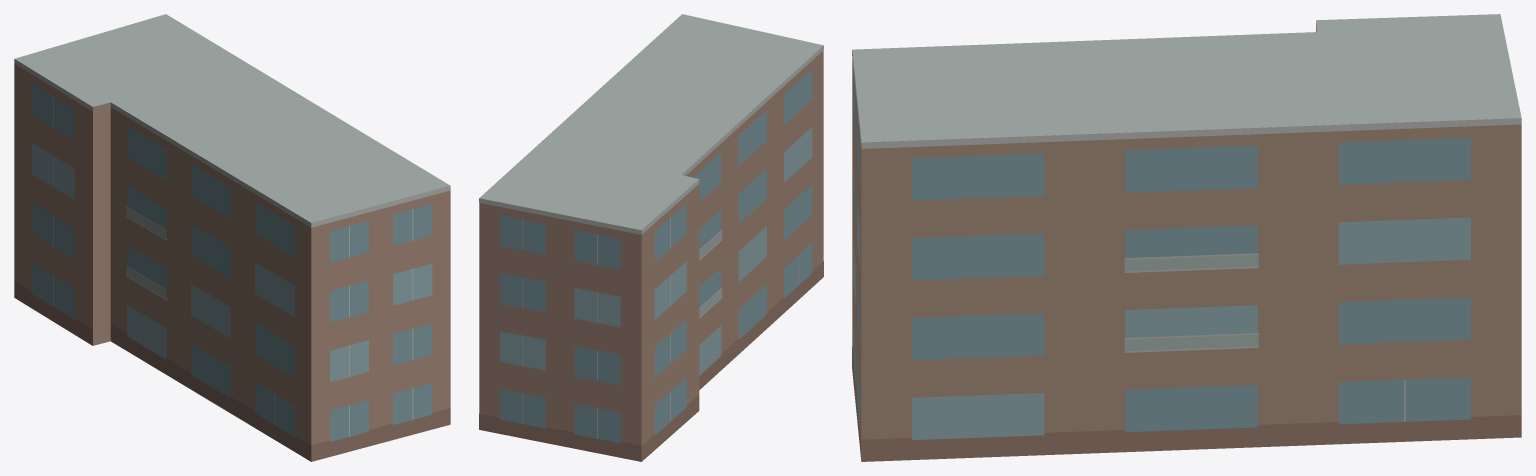
Rendered from survey-upis-32756512.glb.
The picture shows the model from 3 angles, left to right: view 1: azimuth 30°, elevation 25°; view 2: azimuth 150°, elevation 25°; view 3: azimuth 270°, elevation 25°; orthographic projection. The views are drawn at different scales.
Visible parts, largest first — view 1: survey-upis-32756512.tmp; view 2: survey-upis-32756512.tmp; view 3: survey-upis-32756512.tmp.
Part boxes in pixels (<box>): survey-upis-32756512.tmp: <box>14,14,450,461</box>; survey-upis-32756512.tmp: <box>479,14,823,461</box>; survey-upis-32756512.tmp: <box>852,14,1521,461</box>.
Bounding box in the file's own units: 10.54 × 12.2 × 23.19.
